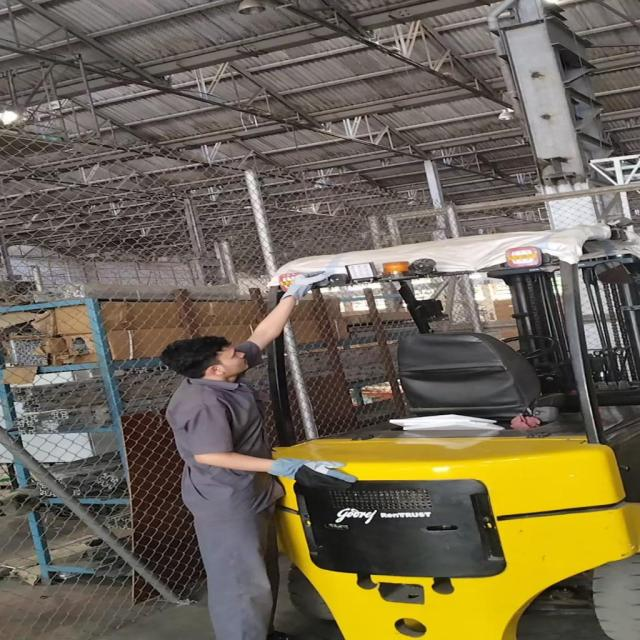Gloves-Detection: (265, 455, 358, 497), (282, 270, 322, 305)
